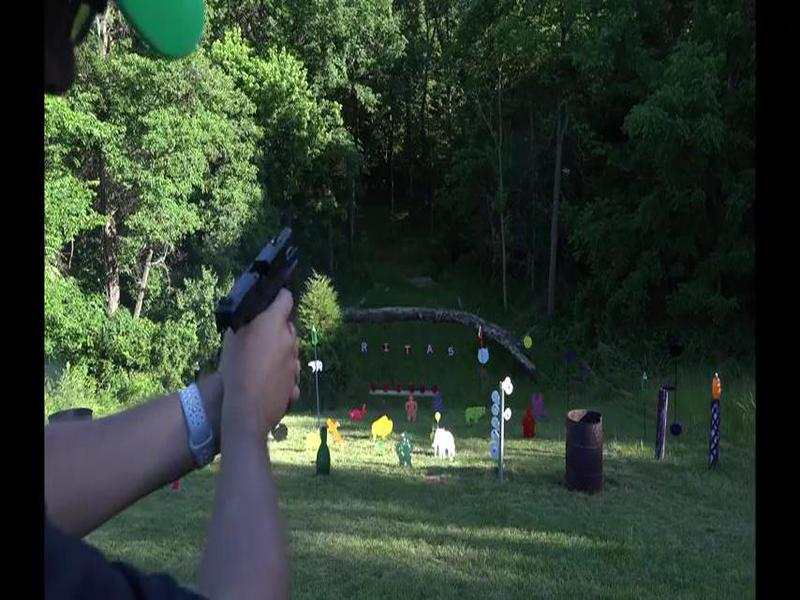Pistola: (192, 221, 324, 374)
